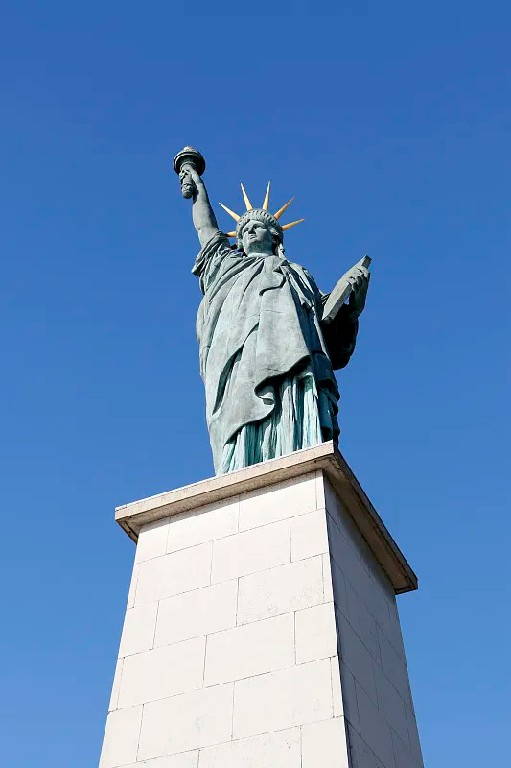SL: (98, 145, 425, 768)
